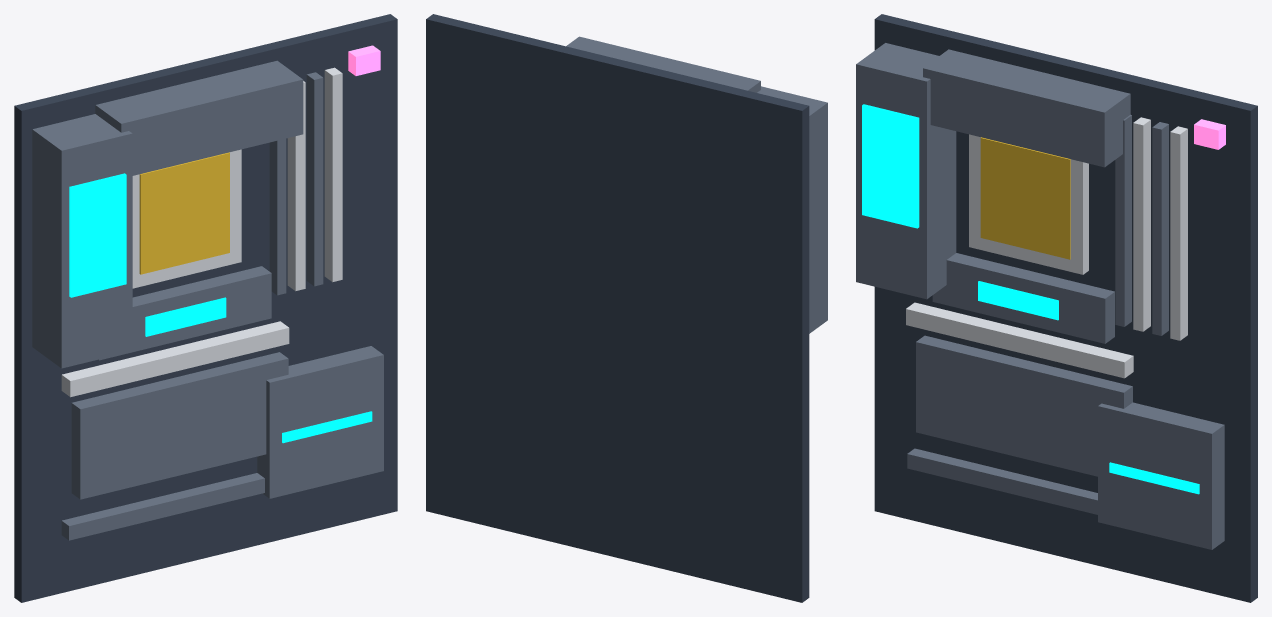
Rendered from MSI_MPG_Z790_CARBON_WIFI.glb.
The picture shows the model from 3 angles, left to right: view 1: azimuth 30°, elevation 25°; view 2: azimuth 150°, elevation 25°; view 3: azimuth 330°, elevation 25°; orthographic projection.
Parts seen in each view (by area): view 1: ATX_PCB_Board, M2_Shield_Frozr_Gen4_Cluster, VRM_Heatsink_Left_IO_Shroud, VRM_Heatsink_Top, Z790_Chipset_Heatsink_MPG, LGA1700_Gold_Pin_Array, MysticLight_Dragon_Plate_ARGB, M2_Shield_Frozr_Gen5_Slot1, PCIe_5_0_x16_Steel_Armor, PCIe_4_0_x16_Secondary_Slot, DDR5_Slot_B2_SteelArmor, DDR5_Slot_B1 (+6 smaller); view 2: ATX_PCB_Board, VRM_Heatsink_Left_IO_Shroud, VRM_Heatsink_Top; view 3: ATX_PCB_Board, M2_Shield_Frozr_Gen4_Cluster, VRM_Heatsink_Left_IO_Shroud, VRM_Heatsink_Top, Z790_Chipset_Heatsink_MPG, LGA1700_Gold_Pin_Array, M2_Shield_Frozr_Gen5_Slot1, MysticLight_Dragon_Plate_ARGB, PCIe_5_0_x16_Steel_Armor, LGA1700_Socket_ILM_Frame, PCIe_4_0_x16_Secondary_Slot, DDR5_Slot_A2_SteelArmor (+6 smaller).
Boxes of the visible parts, box(x1,y1,x2,y2) form: ATX_PCB_Board: box(14, 14, 397, 602); M2_Shield_Frozr_Gen4_Cluster: box(71, 352, 288, 499); VRM_Heatsink_Left_IO_Shroud: box(32, 114, 132, 368); VRM_Heatsink_Top: box(95, 60, 303, 175); Z790_Chipset_Heatsink_MPG: box(257, 346, 383, 498); LGA1700_Gold_Pin_Array: box(139, 152, 229, 274); MysticLight_Dragon_Plate_ARGB: box(69, 173, 126, 297); M2_Shield_Frozr_Gen5_Slot1: box(98, 266, 271, 360); PCIe_5_0_x16_Steel_Armor: box(61, 321, 289, 397); PCIe_4_0_x16_Secondary_Slot: box(61, 473, 264, 540); DDR5_Slot_B2_SteelArmor: box(324, 67, 342, 282); DDR5_Slot_B1: box(306, 72, 323, 286); ATX_PCB_Board: box(426, 14, 809, 602); VRM_Heatsink_Left_IO_Shroud: box(757, 86, 827, 333); VRM_Heatsink_Top: box(566, 36, 760, 92); ATX_PCB_Board: box(874, 14, 1257, 602); M2_Shield_Frozr_Gen4_Cluster: box(916, 335, 1132, 476); VRM_Heatsink_Left_IO_Shroud: box(856, 43, 956, 299); VRM_Heatsink_Top: box(923, 49, 1130, 167); Z790_Chipset_Heatsink_MPG: box(1098, 402, 1224, 549); LGA1700_Gold_Pin_Array: box(980, 137, 1070, 259); M2_Shield_Frozr_Gen5_Slot1: box(932, 253, 1114, 343); MysticLight_Dragon_Plate_ARGB: box(862, 104, 919, 228); PCIe_5_0_x16_Steel_Armor: box(906, 302, 1133, 378); LGA1700_Socket_ILM_Frame: box(969, 134, 1088, 274); PCIe_4_0_x16_Secondary_Slot: box(907, 448, 1097, 514); DDR5_Slot_A2_SteelArmor: box(1133, 117, 1150, 331).
Size of the model in its own units: 2.44 by 3.05 by 0.43.
